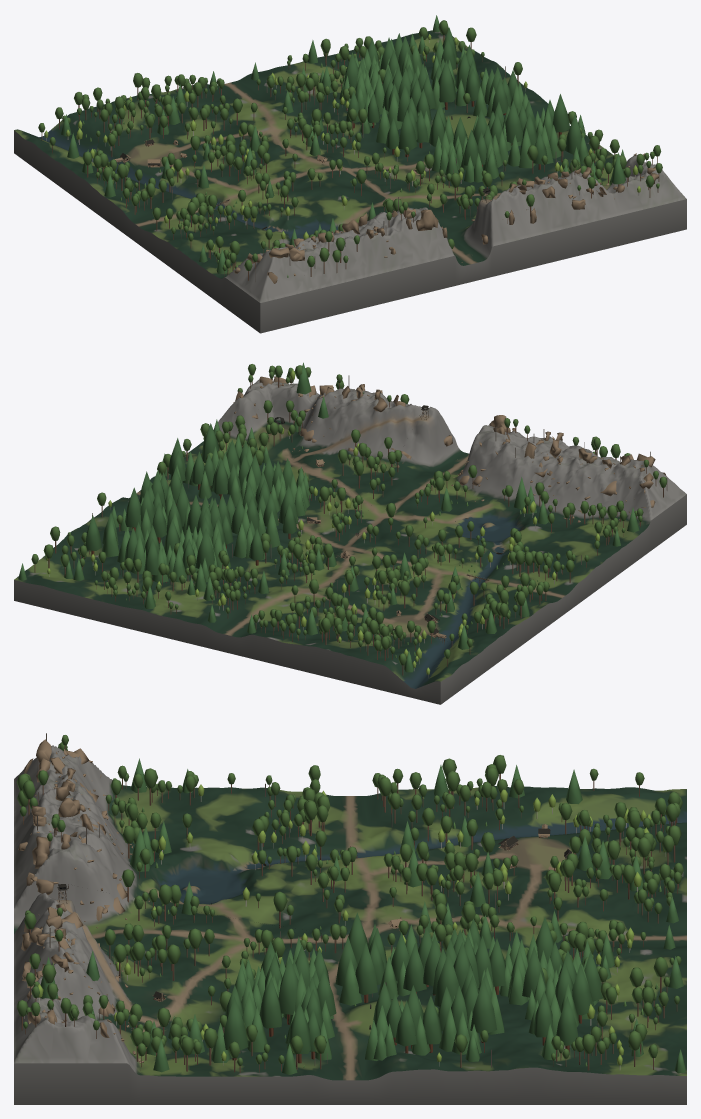
File: near.glb
3 renders of one model, top to bottom at view 1: azimuth 30°, elevation 25°; view 2: azimuth 150°, elevation 25°; view 3: azimuth 270°, elevation 25°, orthographic. The views are drawn at different scales.
Parts seen in each view (by area): view 1: near-placeholder; view 2: near-placeholder; view 3: near-placeholder.
Part boxes in pixels (x1,y1,x2,y2): near-placeholder: [14, 15, 686, 333]; near-placeholder: [14, 362, 686, 704]; near-placeholder: [14, 733, 686, 1104].
Bounding box in the file's own units: 500 × 91.49 × 500.
